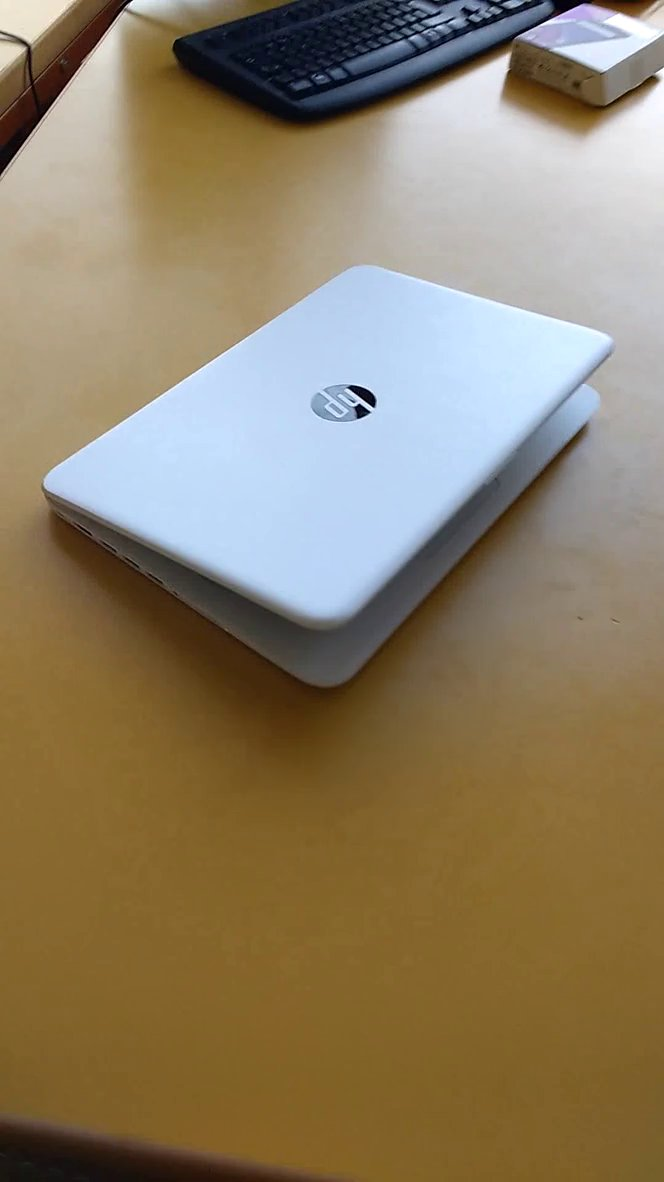laptop: (29, 256, 659, 712)
